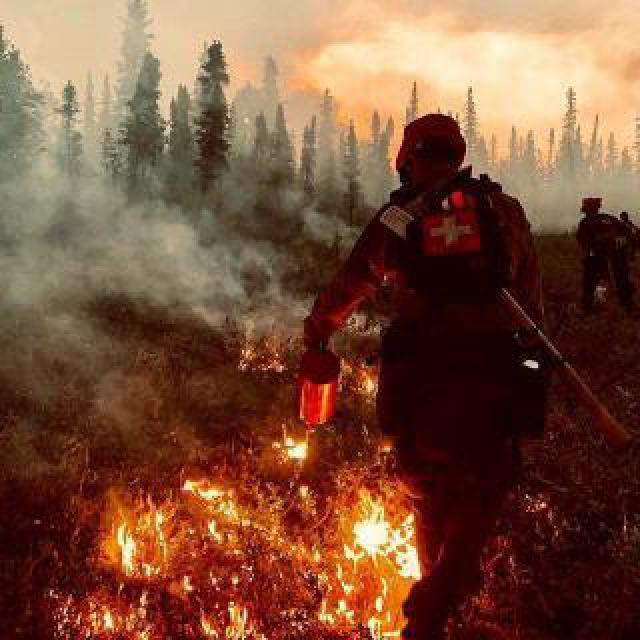Fire: (318, 486, 426, 636), (180, 470, 240, 542), (116, 512, 166, 574), (238, 344, 286, 378), (356, 364, 378, 396), (280, 434, 308, 456)
Smoke: (0, 103, 311, 329)
